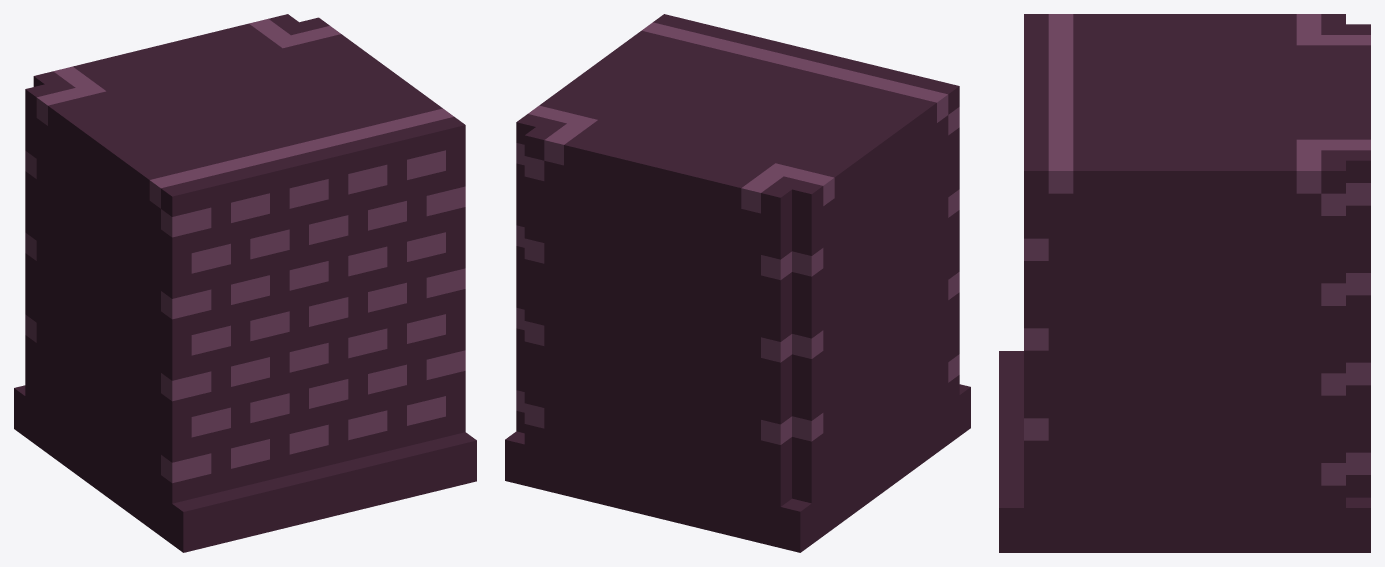
Rendered from dungeon_c_a_inner_wall_segment_b_flipped.obj.
3 views of the same model, side by side, from view 1: azimuth 30°, elevation 25°; view 2: azimuth 150°, elevation 25°; view 3: azimuth 270°, elevation 25° (orthographic). The views are drawn at different scales.
Bounding box in the file's own units: 1.5 × 1.7 × 1.5.
1 material, 1 textured.
